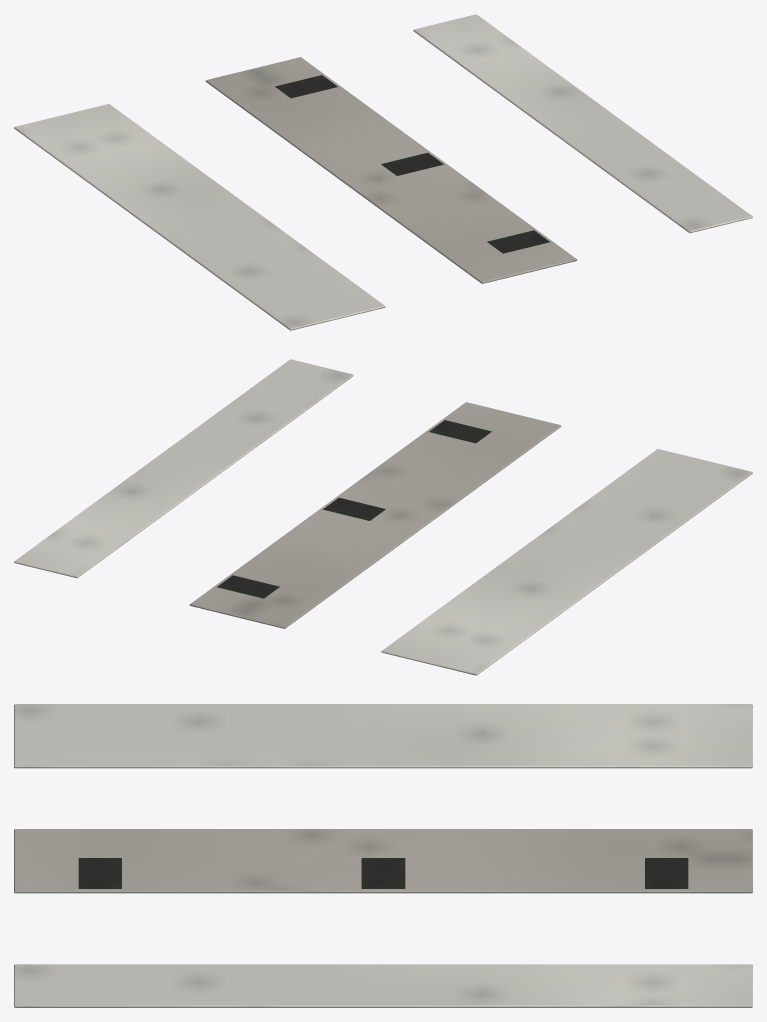
File: crosswalk_stripe.glb
3 renders of one model, top to bottom at view 1: azimuth 30°, elevation 25°; view 2: azimuth 150°, elevation 25°; view 3: azimuth 270°, elevation 25°, orthographic. The views are drawn at different scales.
Visible parts, largest first — view 1: crosswalk_stripe_v1, crosswalk_stripe_v2, crosswalk_stripe_v3; view 2: crosswalk_stripe_v1, crosswalk_stripe_v2, crosswalk_stripe_v3; view 3: crosswalk_stripe_v1, crosswalk_stripe_v2, crosswalk_stripe_v3.
Boxes of the visible parts, x1=… form: crosswalk_stripe_v1: x1=14, y1=104, x2=385, y2=330; crosswalk_stripe_v2: x1=205, y1=57, x2=577, y2=283; crosswalk_stripe_v3: x1=413, y1=14, x2=752, y2=233; crosswalk_stripe_v1: x1=381, y1=449, x2=752, y2=675; crosswalk_stripe_v2: x1=189, y1=402, x2=561, y2=628; crosswalk_stripe_v3: x1=14, y1=359, x2=353, y2=578; crosswalk_stripe_v1: x1=14, y1=704, x2=752, y2=768; crosswalk_stripe_v2: x1=14, y1=829, x2=752, y2=893; crosswalk_stripe_v3: x1=14, y1=964, x2=752, y2=1007.
Size of the model in its own units: 2.9 by 0.013 by 3.
2 materials, 2 textured.
